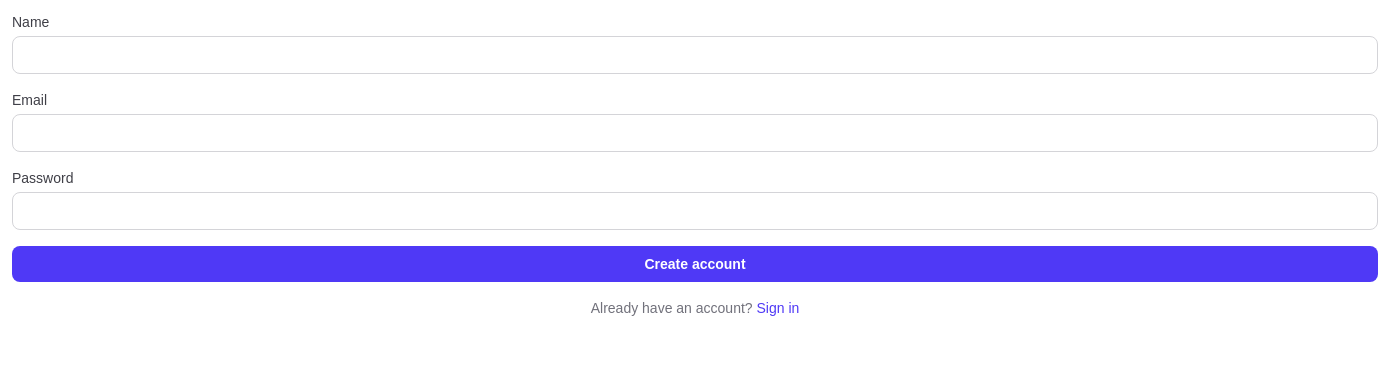
it: AuthForm › requires a minimum password length on registration
Type "Jane" into the field labelled "Name".
click(695, 55); type("Jane")  # box [12,36,1378,74]
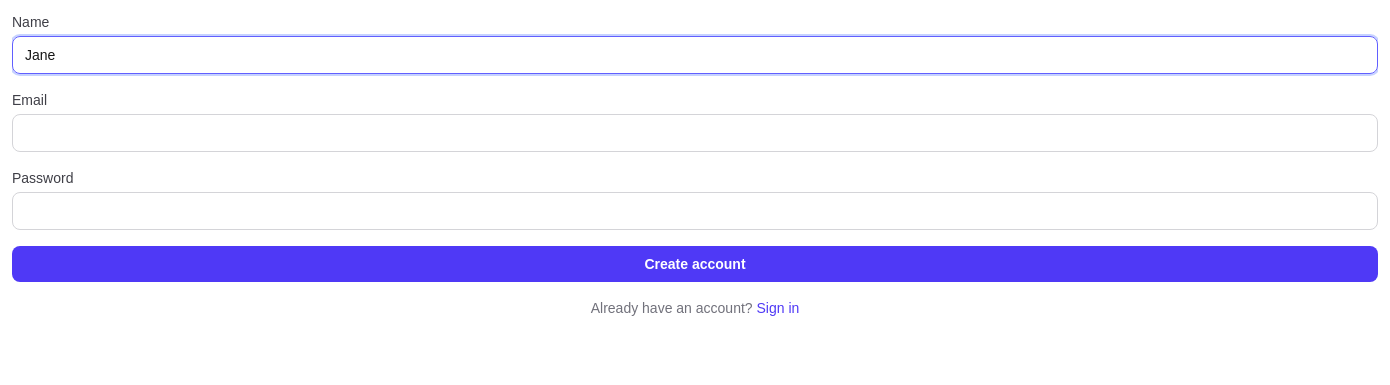
Type "jane@example.com" into the field labelled "Email".
click(695, 133); type("jane@example.com")  # box [12,114,1378,152]
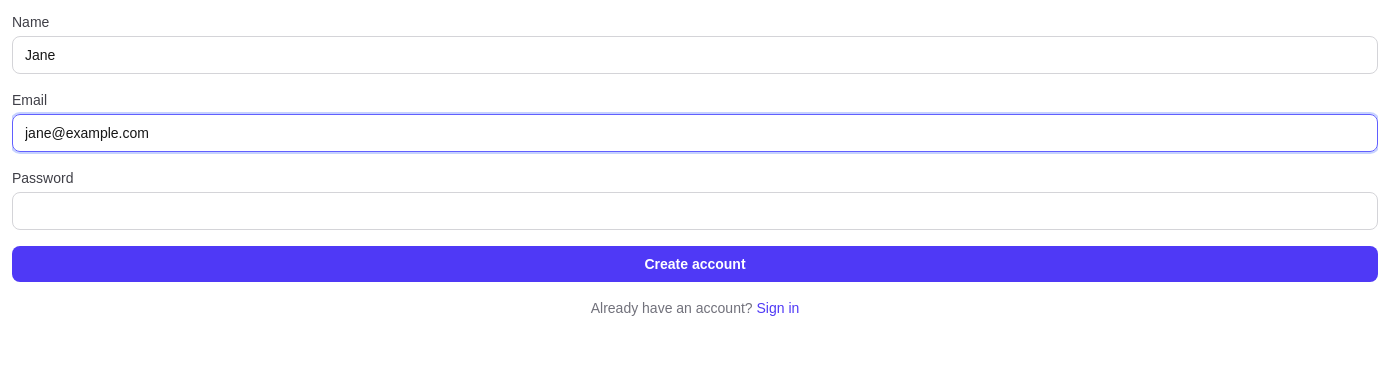
Type "short" into the password field labelled "Password".
click(695, 211); type("short")  # box [12,192,1378,230]
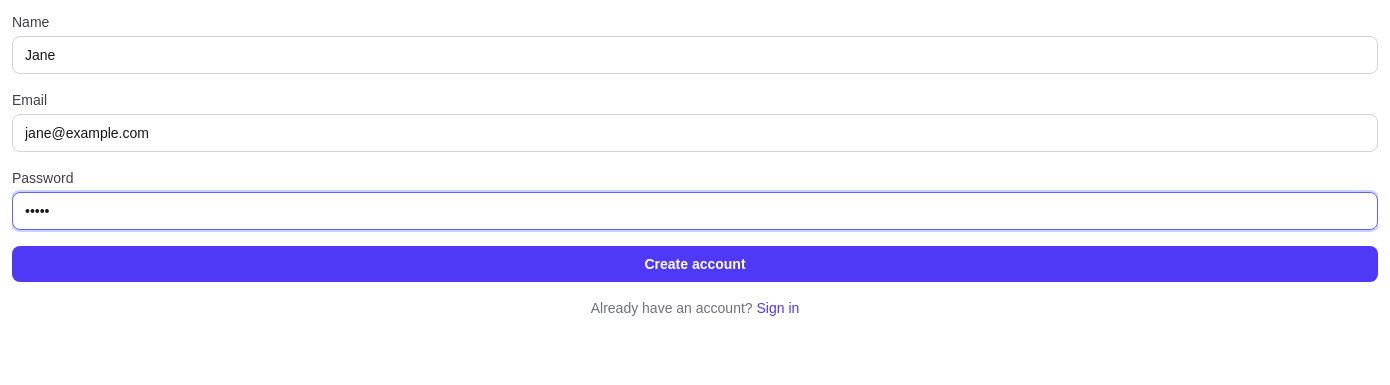
Click the button "Create account".
click(695, 264)  # box [12,246,1378,282]
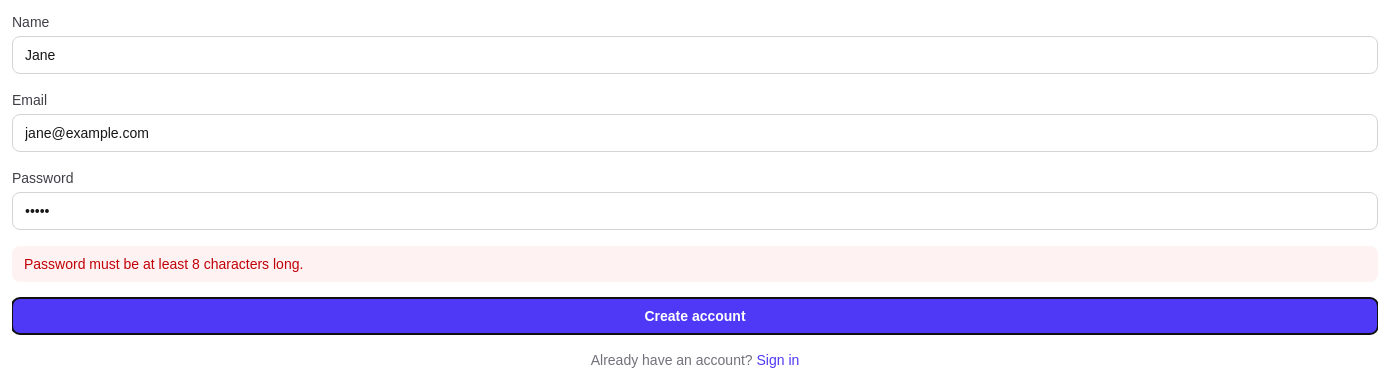
expect the message shows "at least 8 characters": met, box [24,256,303,272]
